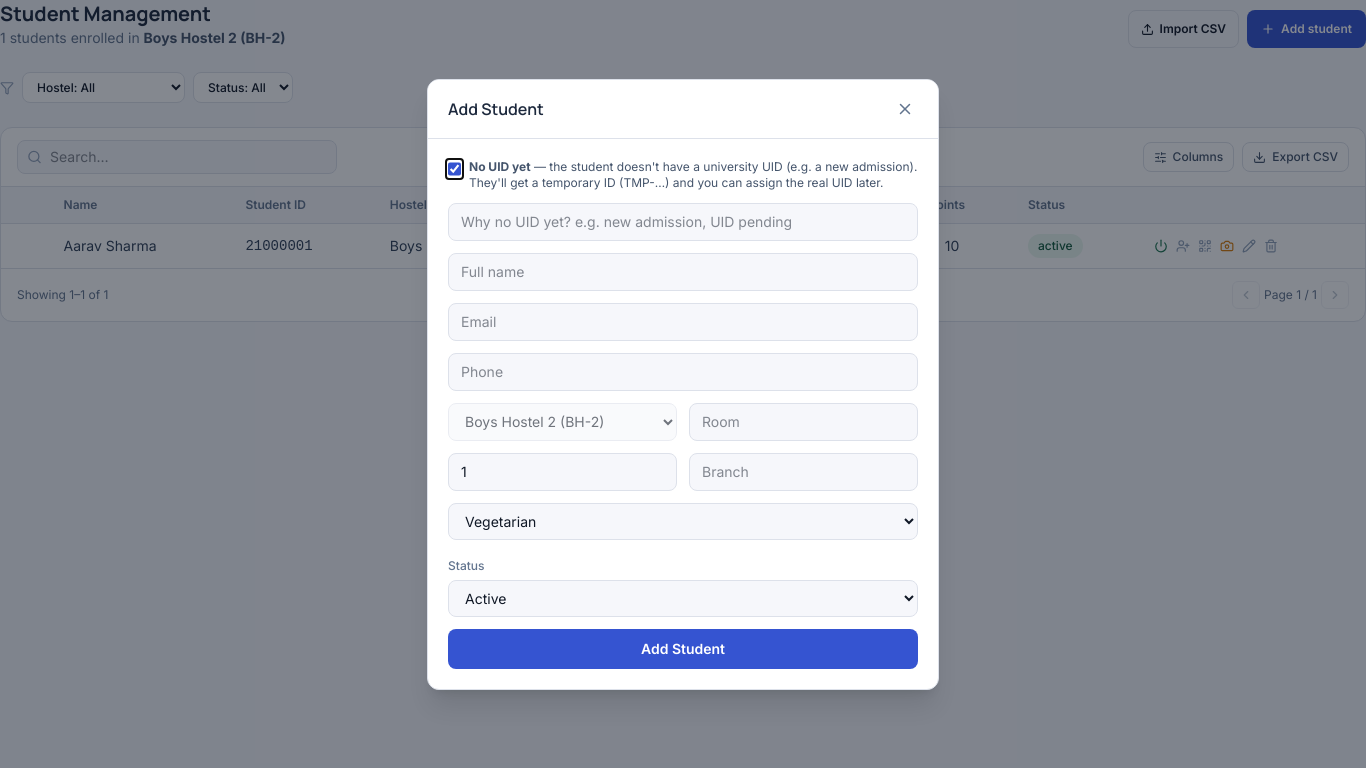
Test: Students — hostel-capacity errors reach the person › adding student #113 shows the full-hostel message in the form and keeps the form (and the typed data) open
Earlier steps of the test are not shown.
Type "new admission, UID pending" into the field named "reason there is no uid" at (683,222), box left=448, top=202, right=918, bottom=240
Type "Overflow Student" into the field with placeholder "Full name" at (683,272), box left=448, top=252, right=918, bottom=290
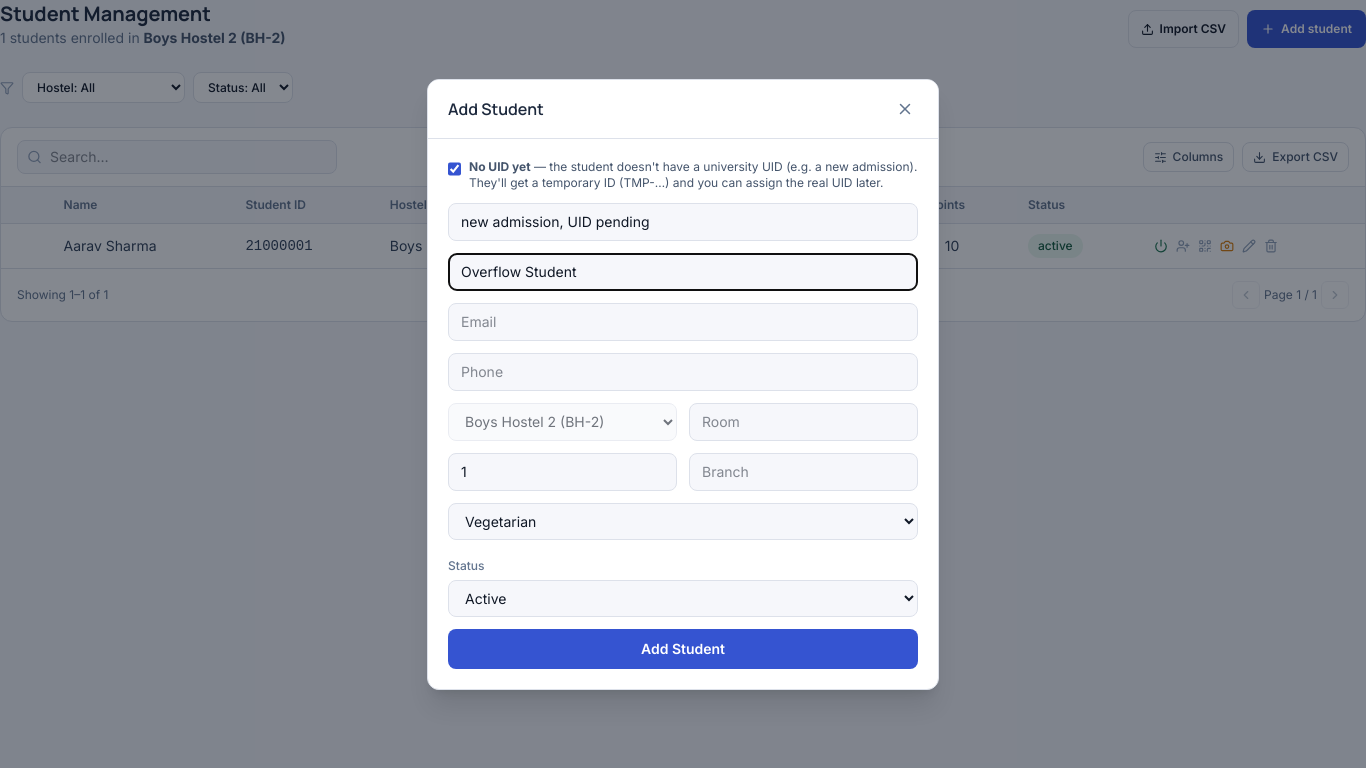
Type "overflow@x.edu" into the field with placeholder "Email" at (683,322), box left=448, top=302, right=918, bottom=340
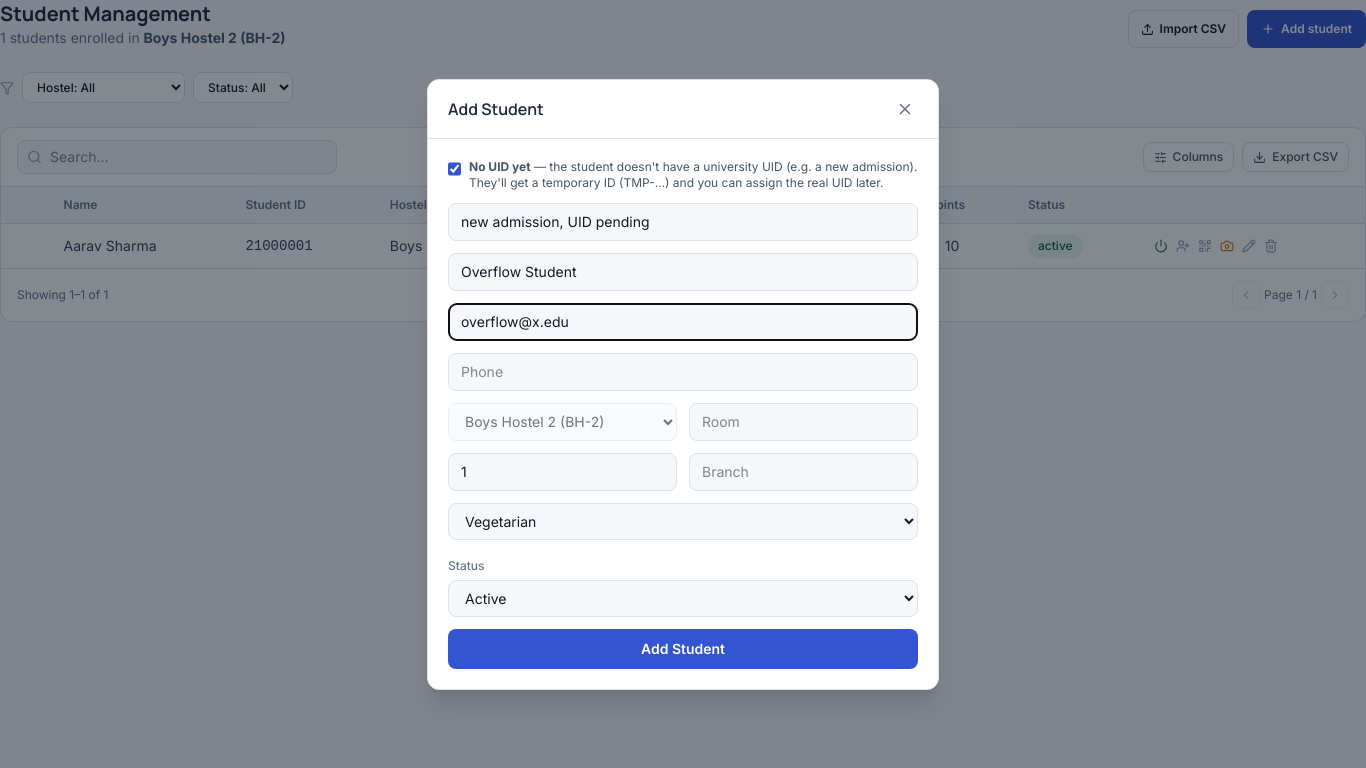
Type "9000000099" into the field with placeholder "Phone" at (683,372), box left=448, top=352, right=918, bottom=390
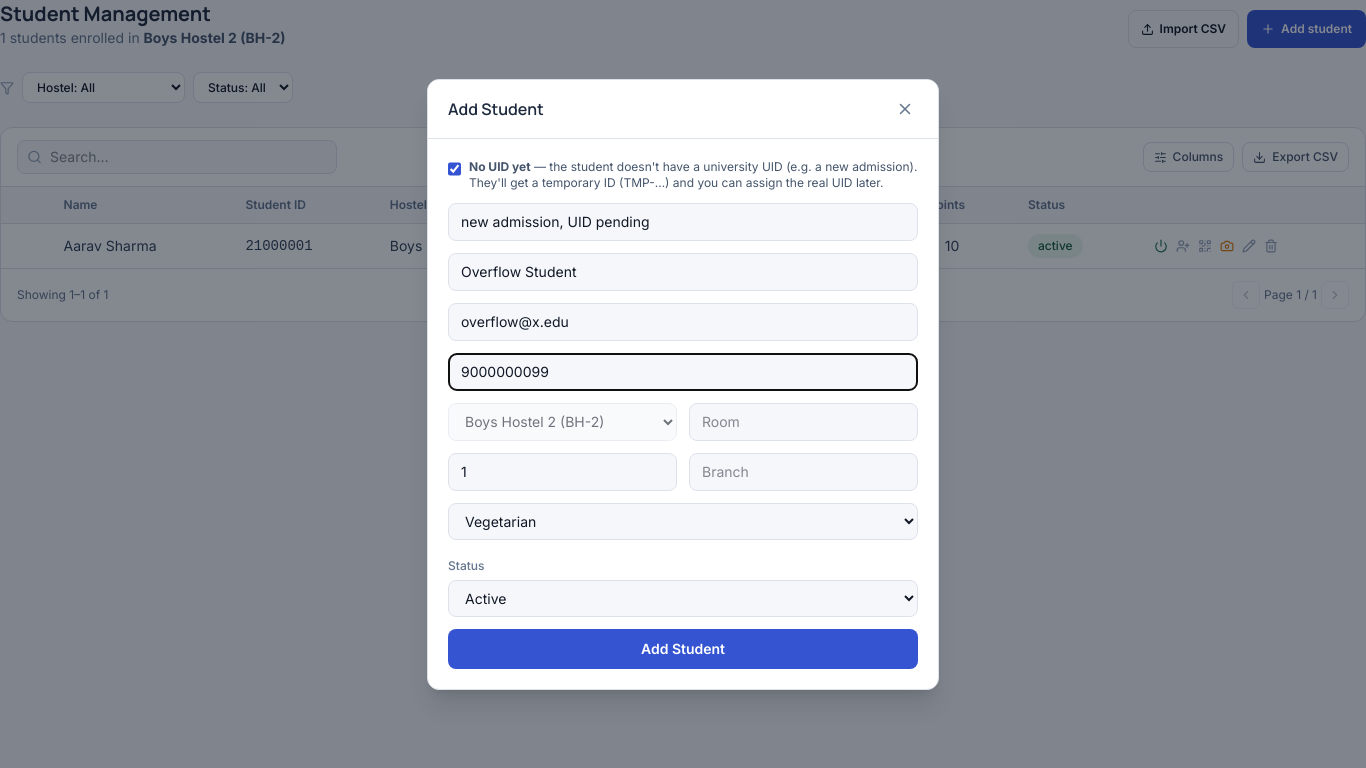
Type "Z-9" into the field with placeholder "Room" at (804,422), box left=689, top=402, right=918, bottom=440
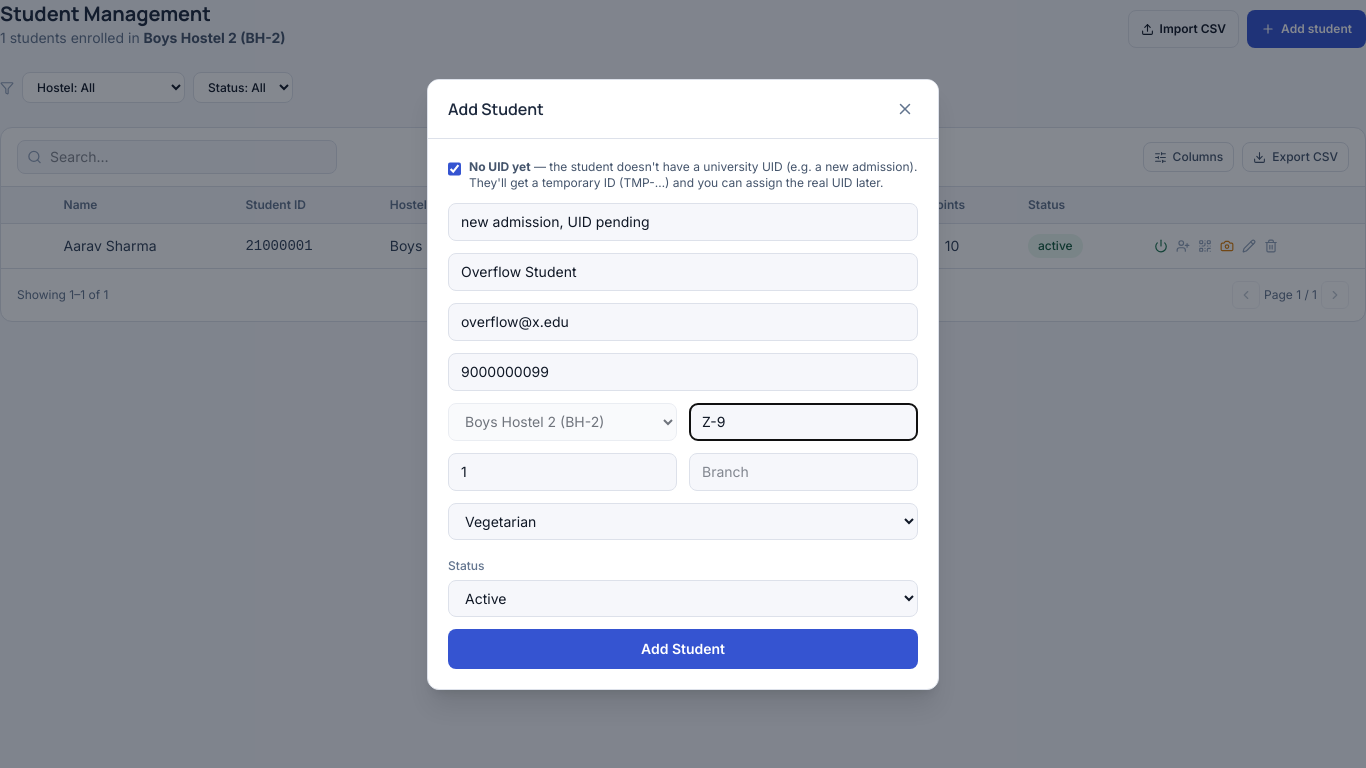
Type "Civil" into the field with placeholder "Branch" at (804,472), box left=689, top=452, right=918, bottom=490
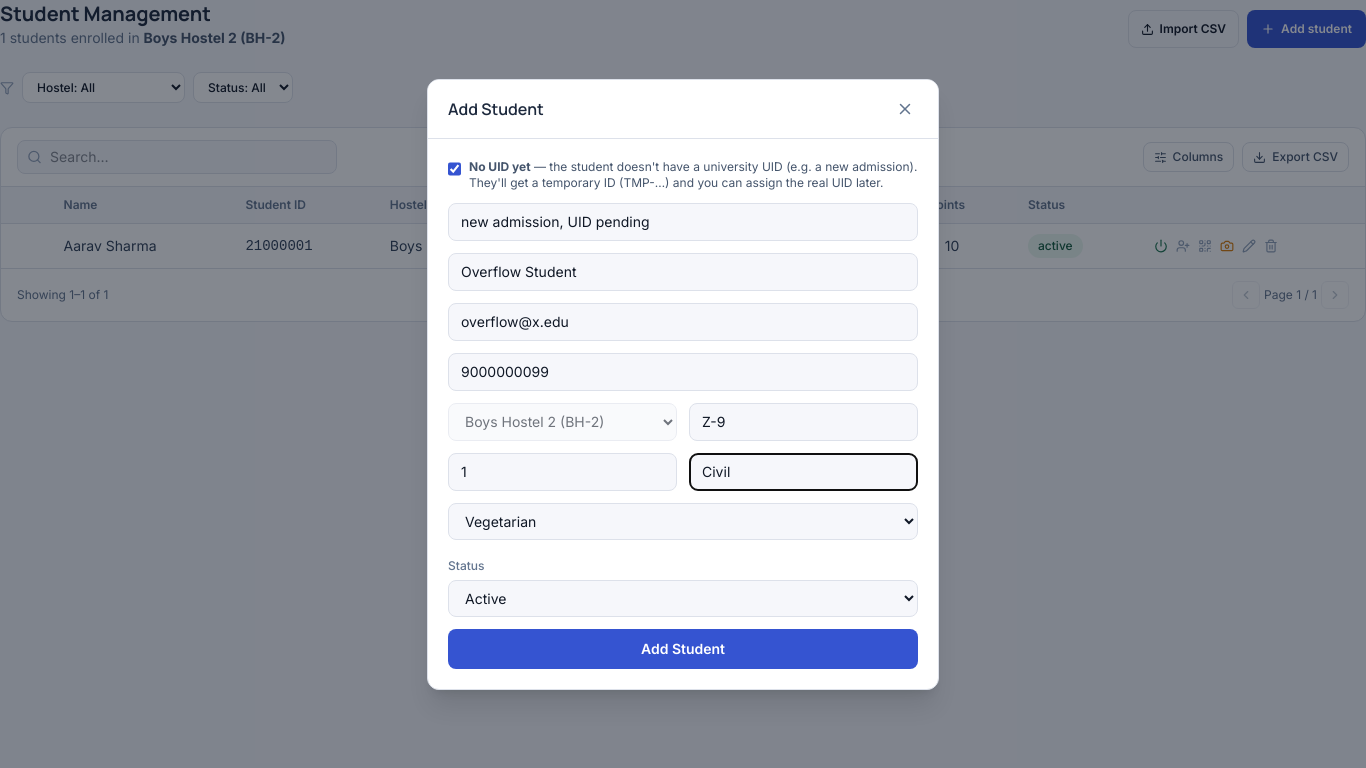
Click the button "Add Student" at (683,648), box left=448, top=628, right=918, bottom=668
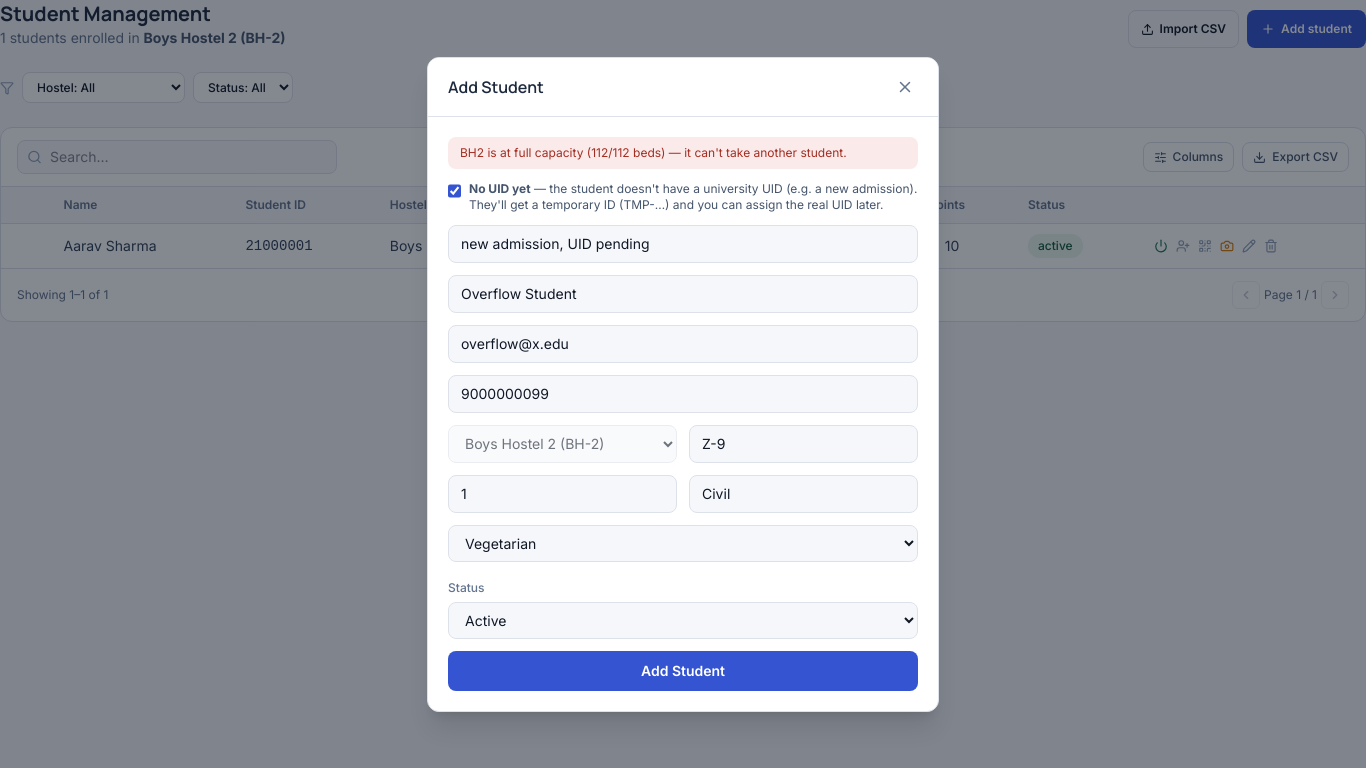
expect the button "Add Student" is enabled: met, box left=448, top=650, right=918, bottom=690
expect the message shows "BH2 is at full capacity (112/112 beds)": met, box left=460, top=144, right=847, bottom=160
